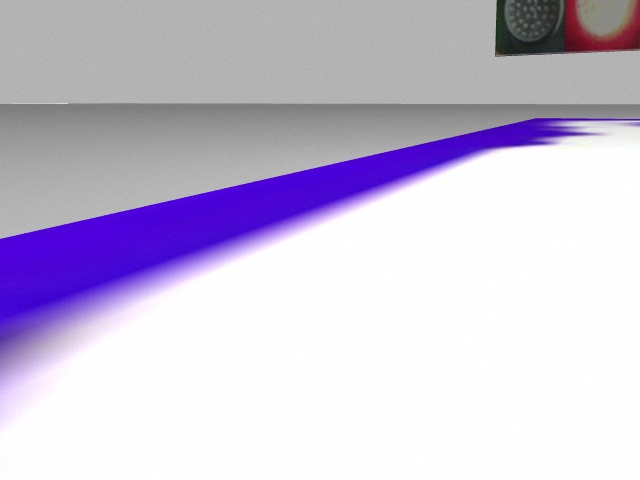red: (565, 2, 640, 49)
